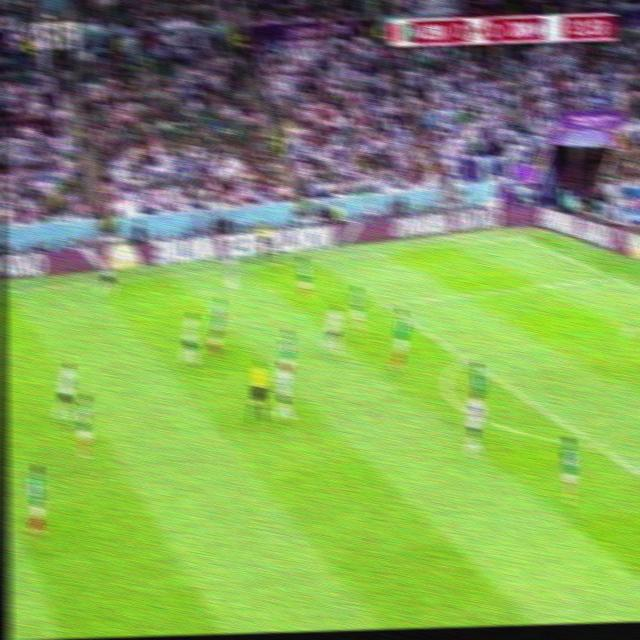bigarea_top_inner: (376, 295, 394, 312)
bigarea_top_outter: (603, 269, 621, 283)
bottom_arc_area_intersection: (587, 432, 607, 452)
corner: (509, 229, 530, 242)
smallarea_top_inner: (621, 320, 640, 337)
top_arc_area_intersection: (458, 348, 477, 367)
